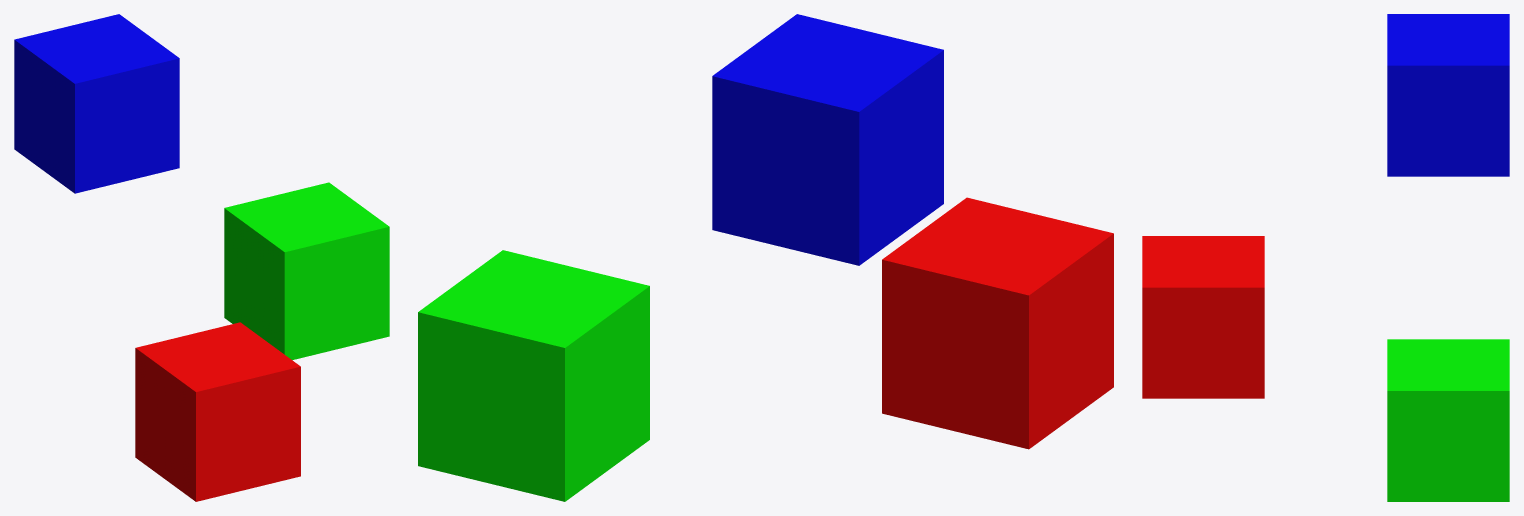
The model's file is iter_0.obj.
3 renders of one model, left to right at view 1: azimuth 30°, elevation 25°; view 2: azimuth 150°, elevation 25°; view 3: azimuth 270°, elevation 25°, orthographic. The views are drawn at different scales.
Visible parts, largest first — view 1: iter_0; view 2: iter_0; view 3: iter_0.
Boxes of the visible parts, bbox=[...] form: iter_0: bbox=[14, 14, 389, 501]; iter_0: bbox=[418, 14, 1113, 501]; iter_0: bbox=[1142, 14, 1509, 501].
Bounding box in the file's own units: 0.3 × 0.3 × 0.3.
